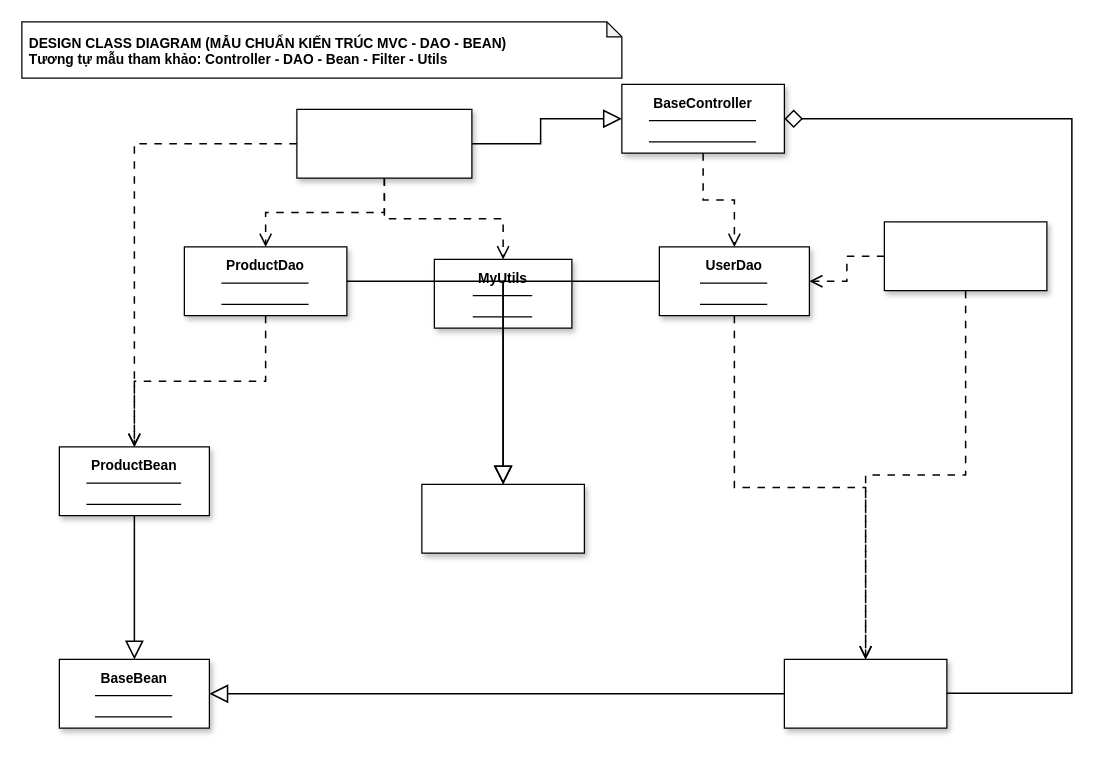
Some shapes in this 1113 by 759 pixel diagram are drawn without their labels. Each missing label, with the centre of its shape:
"BaseDao" belongs at pixel 504 520.
"ProductController" belongs at pixel 385 145.
"RequestFilter" belongs at pixel 966 257.
"UserBean" belongs at pixel 866 695.
